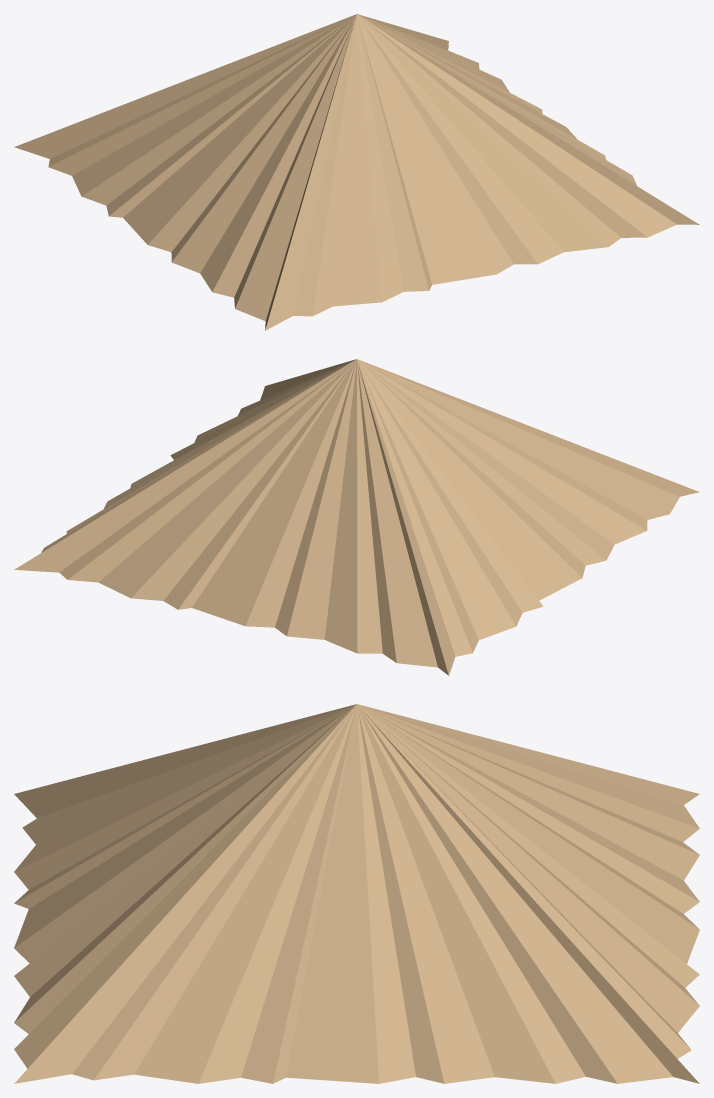
Rendered from Buildings_Wooden_Roof_Bungalo_01.fbx.
3 views of the same model, one above another, from view 1: azimuth 30°, elevation 25°; view 2: azimuth 150°, elevation 25°; view 3: azimuth 270°, elevation 25° (orthographic). The views are drawn at different scales.
Visible parts, largest first — view 1: Model; view 2: Model; view 3: Model.
Boxes of the visible parts, <box> form: Model: <box>14,14,699,330</box>; Model: <box>14,359,699,675</box>; Model: <box>14,704,699,1083</box>.
Size of the model in its own units: 1374 by 519 by 1374.
